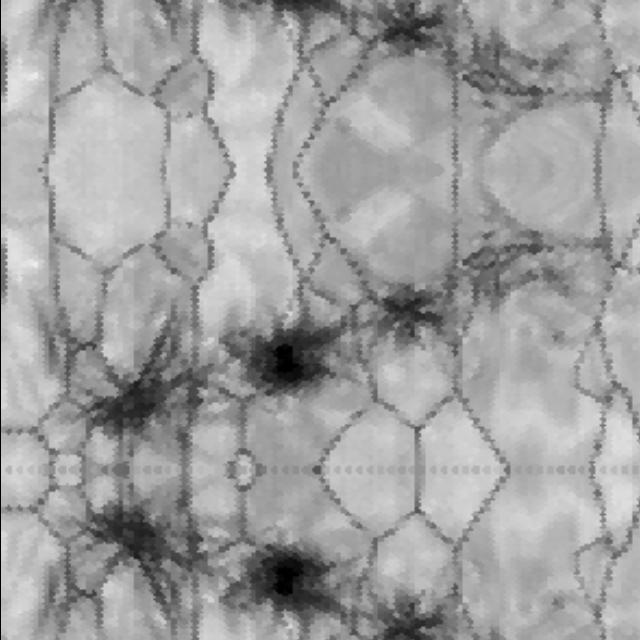good_void: (53, 311, 229, 474), (53, 468, 229, 631), (213, 292, 376, 423), (213, 519, 376, 640), (445, 183, 568, 310), (445, 31, 568, 158), (13, 284, 104, 392), (370, 277, 465, 363), (216, 0, 359, 41), (29, 559, 97, 640), (372, 592, 460, 640), (575, 232, 617, 265), (575, 77, 617, 109), (535, 318, 573, 352), (535, 590, 573, 624), (536, 0, 571, 23), (179, 106, 199, 125), (179, 217, 199, 235)
